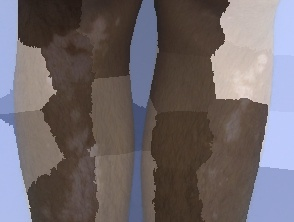vitiligo: (174, 0, 286, 222), (21, 0, 130, 222)
